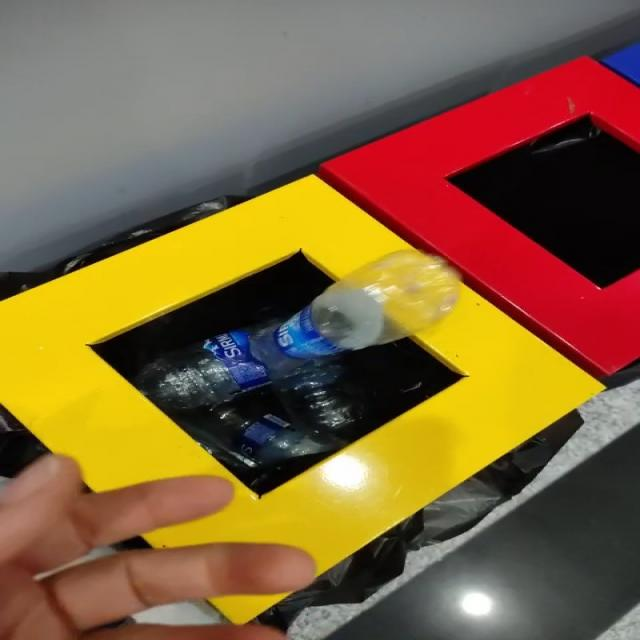plastic: (251, 250, 460, 378)
